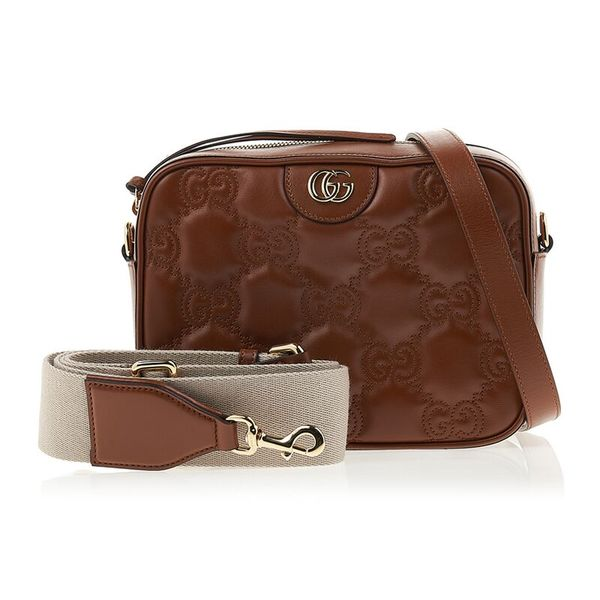Gucci: (103, 107, 561, 442), (285, 163, 396, 232), (399, 265, 503, 331), (349, 329, 426, 388)
